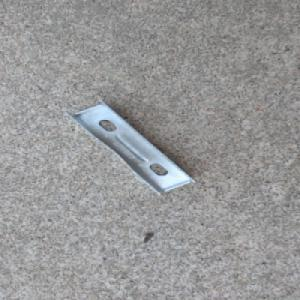ClampPart: (63, 99, 197, 196)
